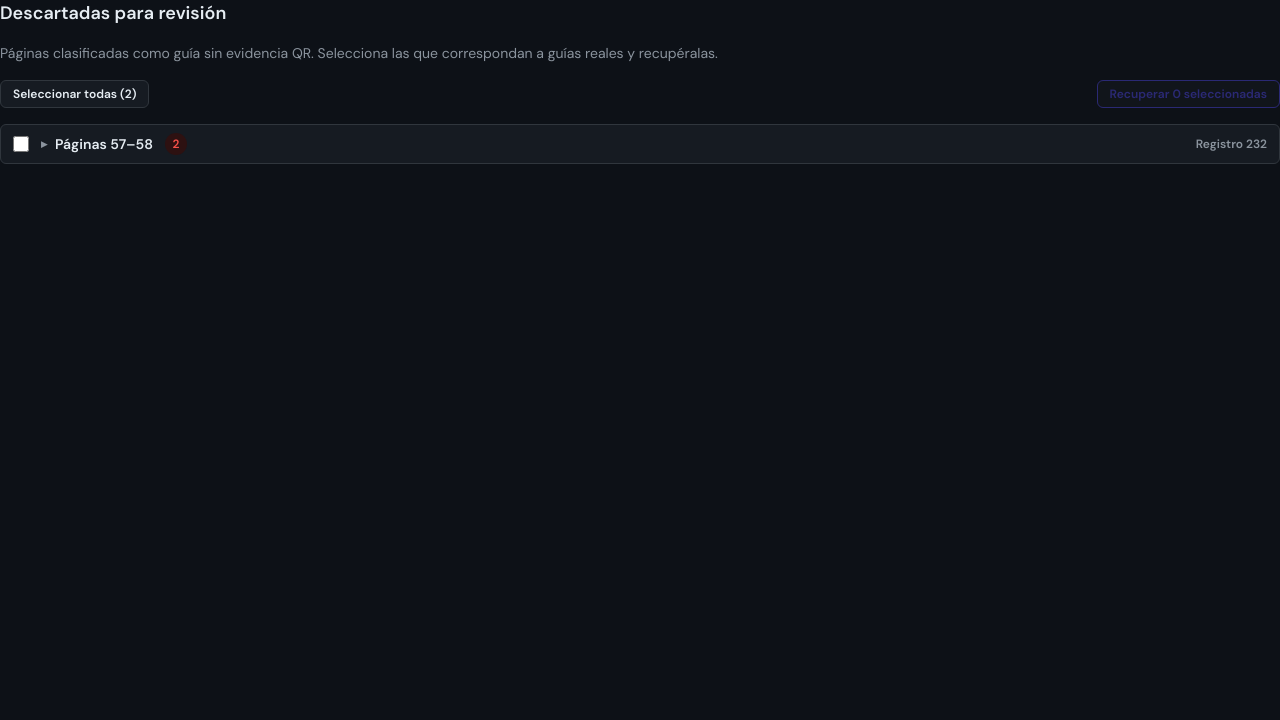
Test: DescartadasTab — in-flight gating (REV-R30-S05 + A4) › disables "Recuperar seleccionadas" while the batch is in-flight
Click the button with class "descartadas-tab__select-all" at (75, 94), box [0, 80, 149, 108]
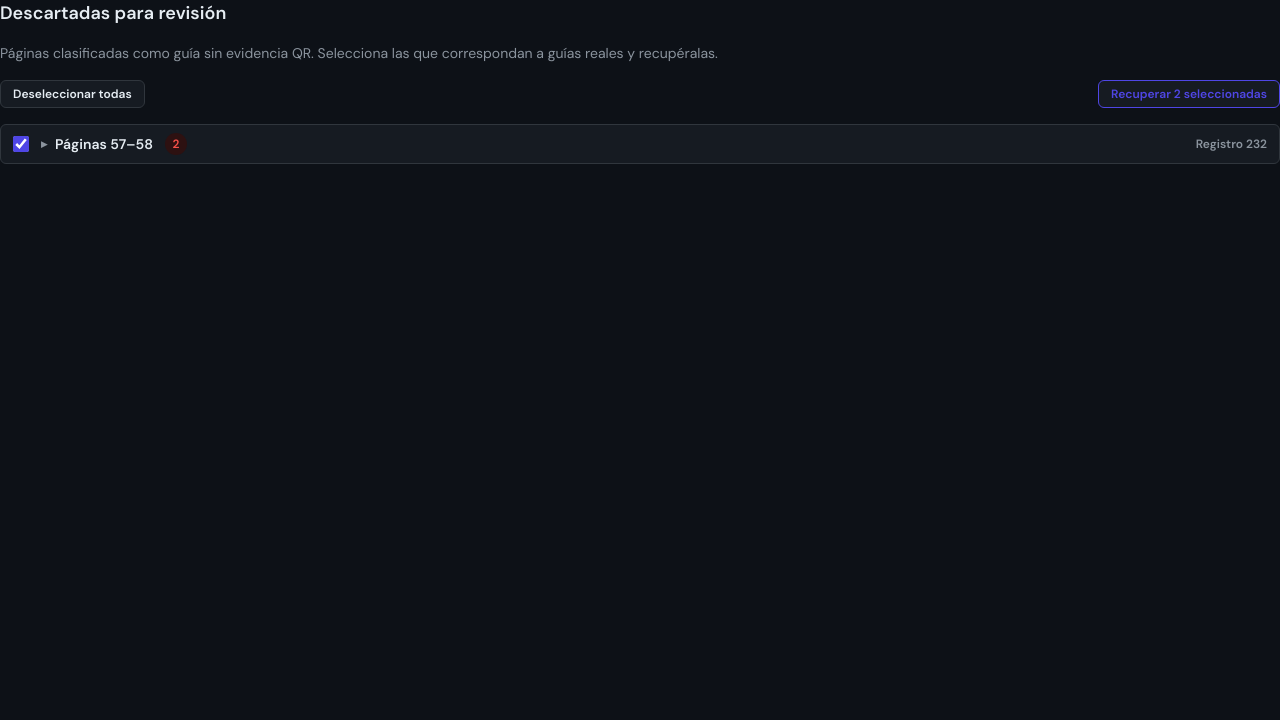
Click the button with class "descartadas-tab__bulk-btn" at (1189, 94), box [1098, 80, 1279, 108]
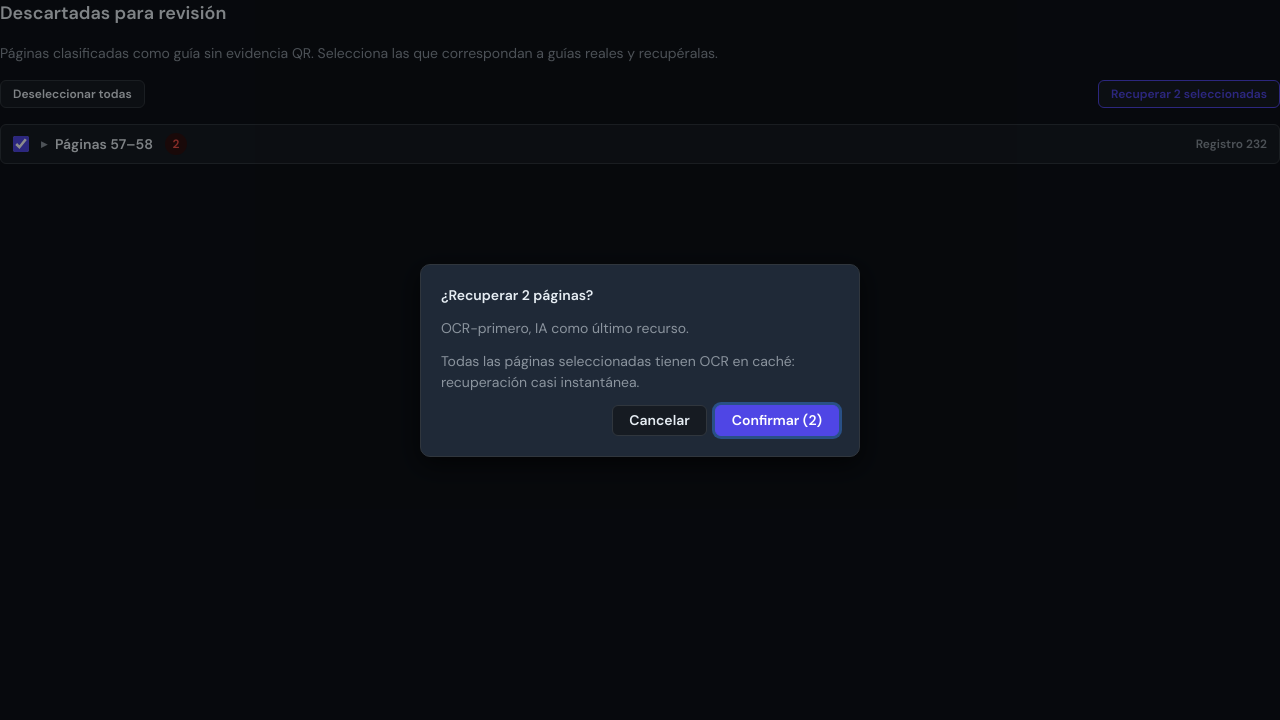
Click the button with class "descartadas-tab__dialog-confirm" at (777, 420), box [715, 404, 839, 436]
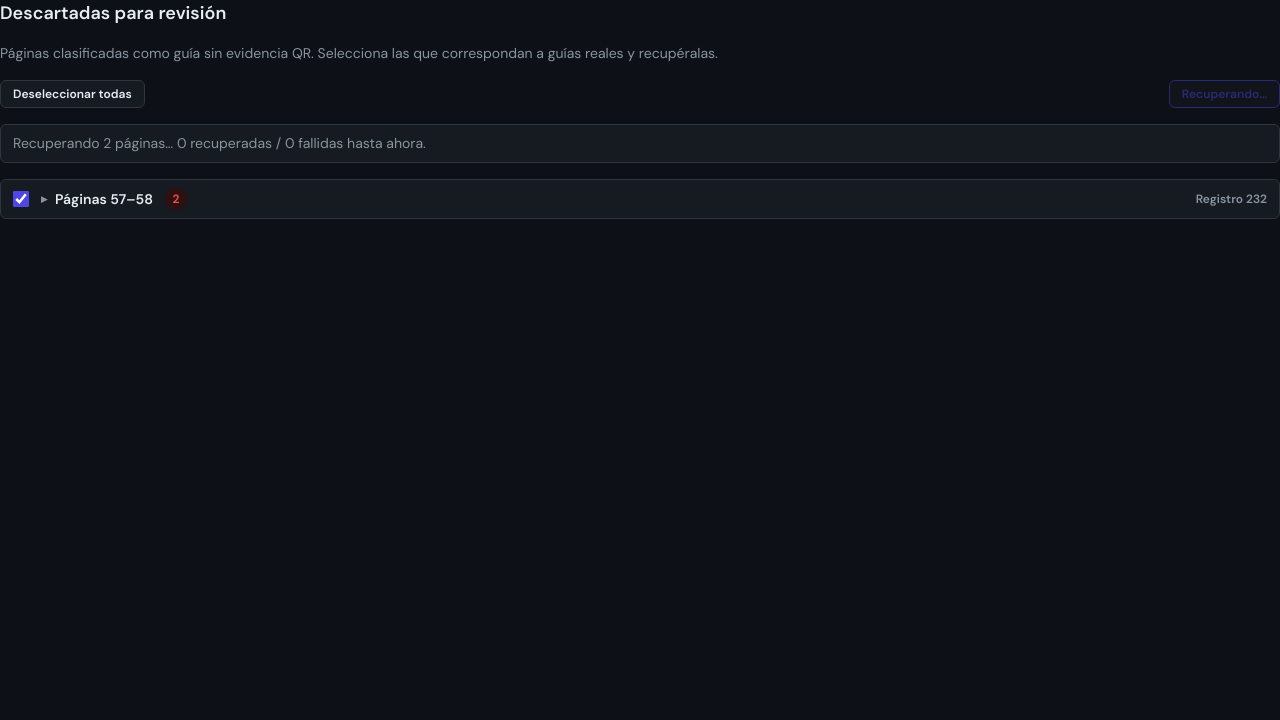
Expected: the button with class "descartadas-tab__bulk-btn" is disabled, [1169, 80, 1279, 108]
